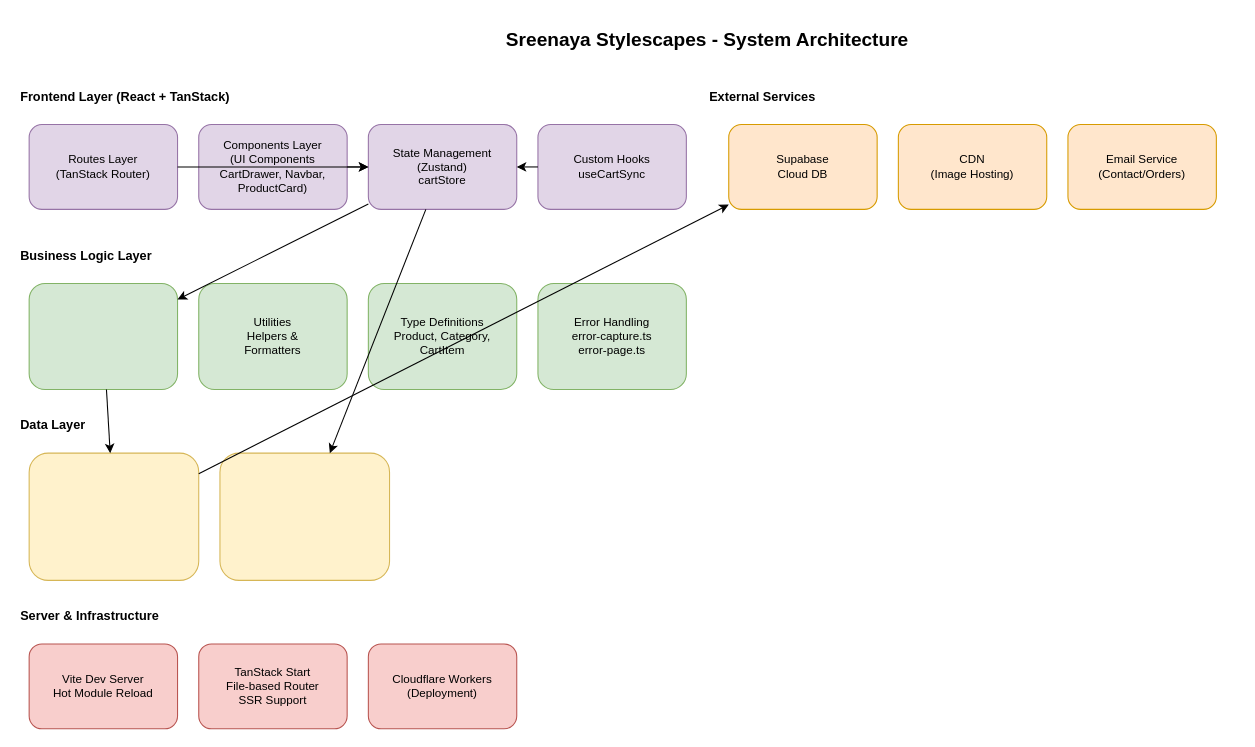
The diagram is 1255 pixels wide and 747 high, and some of its shapes have lost their labels. Each missing label, with the centre of its shape:
Catalog Service getProducts() getProductBySlug() getCategories(): [103,336]
Client Storage - Shopping Cart (localStorage): [304,516]
Supabase Client - PostgreSQL - Product Data - Categories - Orders: [113,516]
